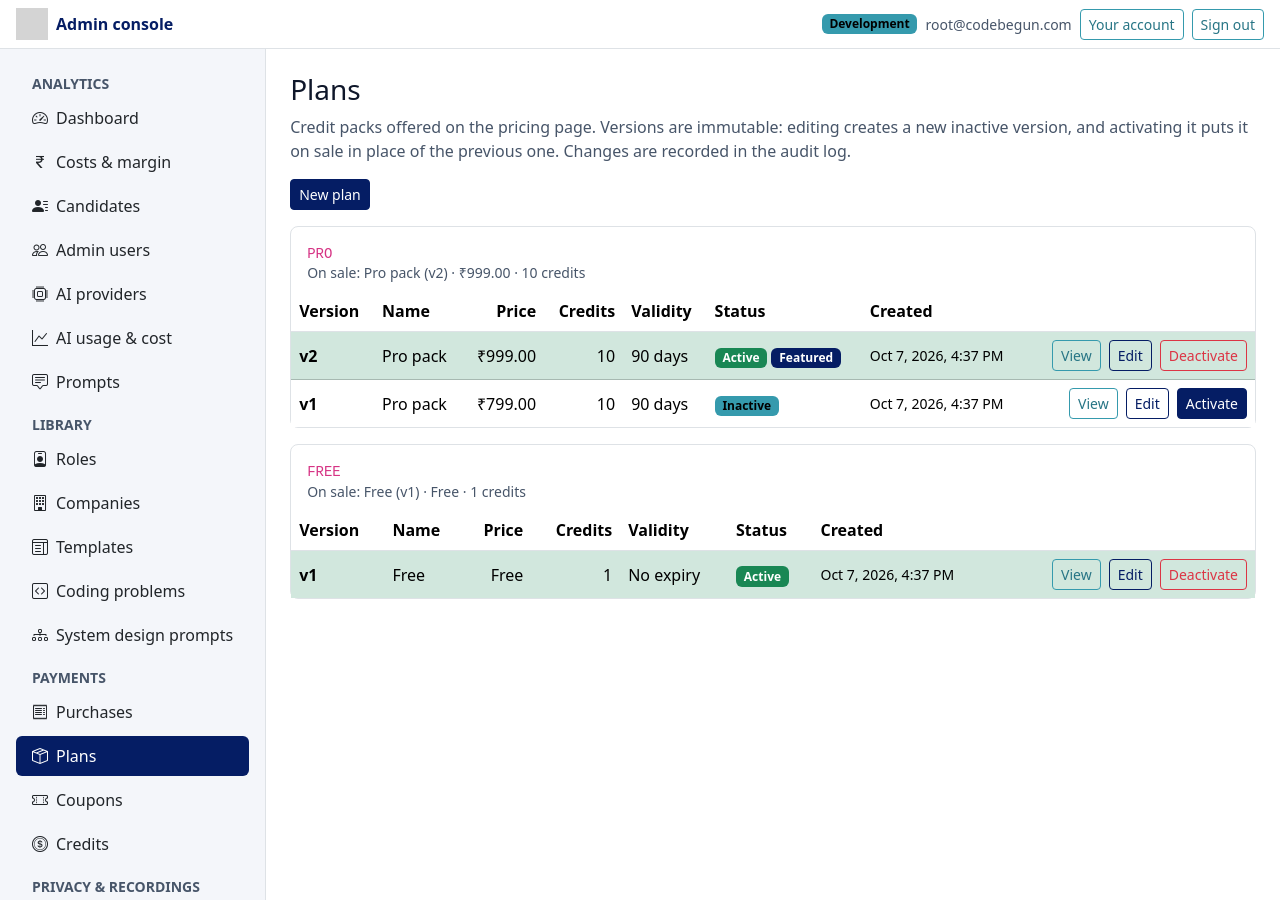
plans › activates a version with a reason
Click the button with aria-label "Activate PRO v1" at (1212, 404), box [1177, 388, 1247, 419]
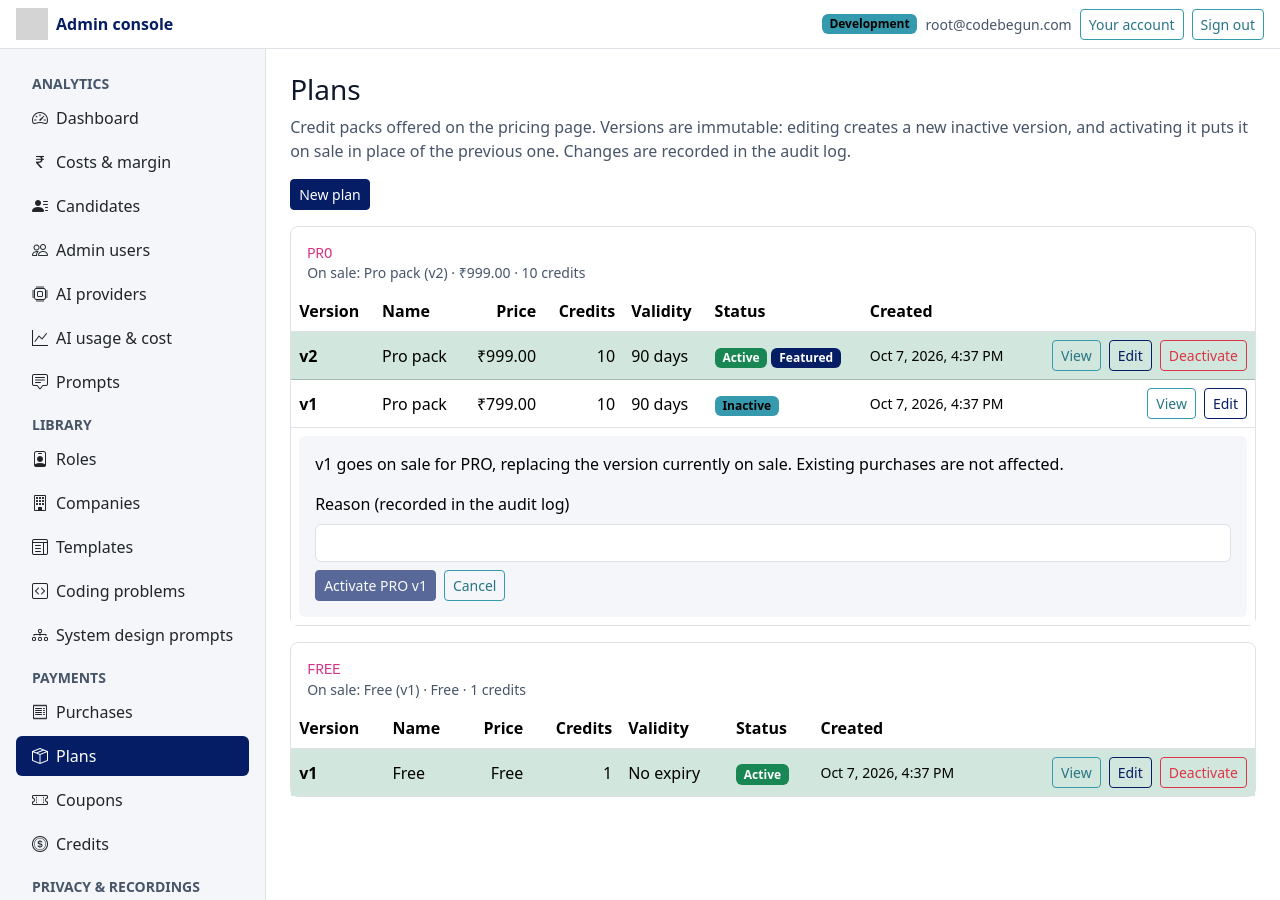
Result: the text "v1 goes on sale for PRO, replacing the version currently on sale. Existing purchases are not affected." is shown at [315, 453, 1064, 475]
Type "Roll back price" into the field labelled "Reason (recorded in the audit log)" at (773, 543), box [315, 524, 1231, 562]
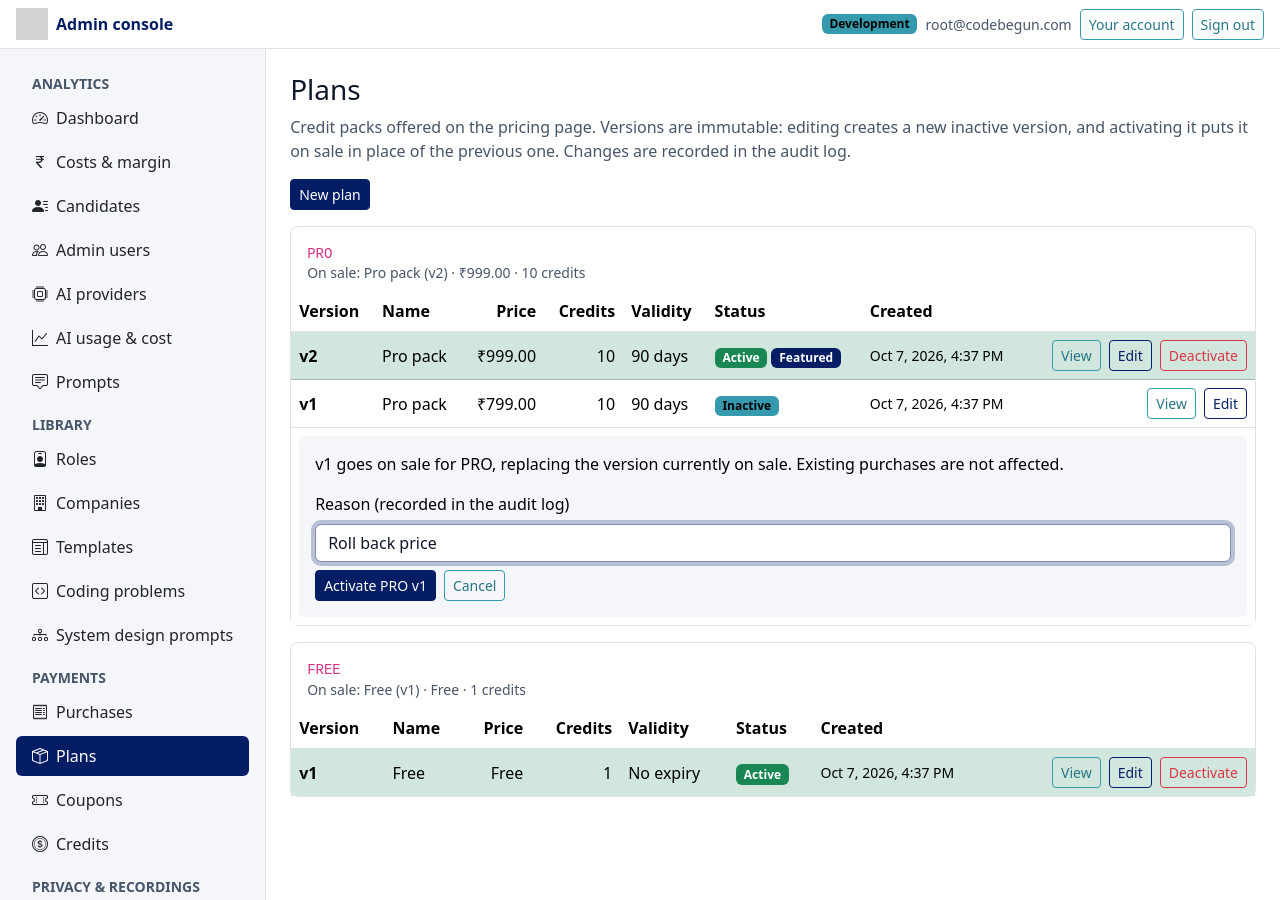
Click the button "Activate PRO v1" at (376, 586), box [315, 570, 436, 601]
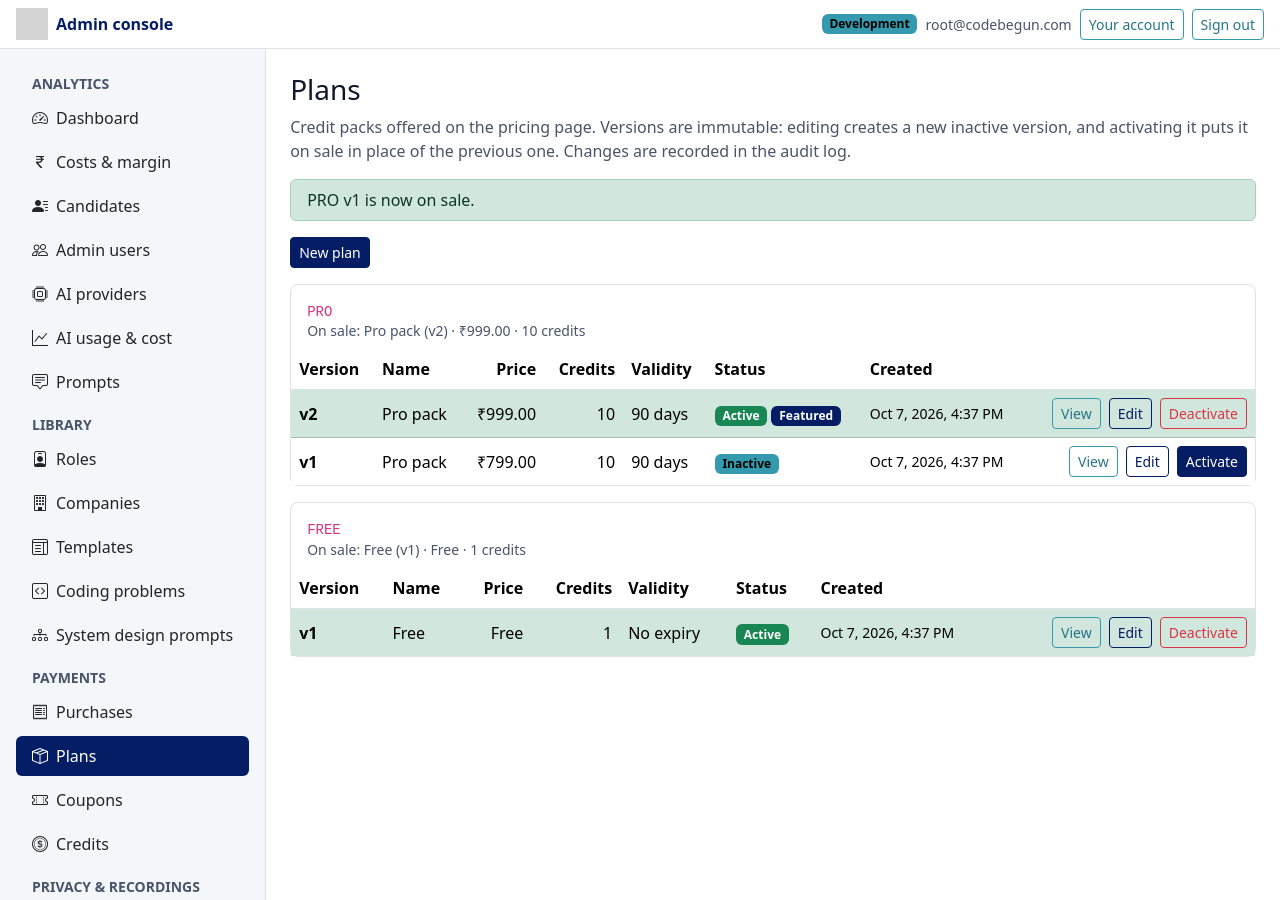
Result: the text "PRO v1 is now on sale." is shown at [290, 179, 1256, 221]
